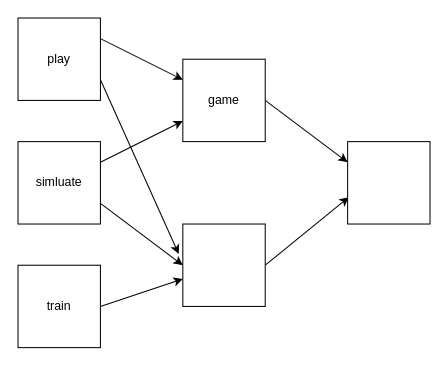
Some shapes in this 448 by 366 pixel diagram are drawn without their labels. Each missing label, with the centre of its shape:
"ai" belongs at [223,264].
"storage" belongs at [388,182].
